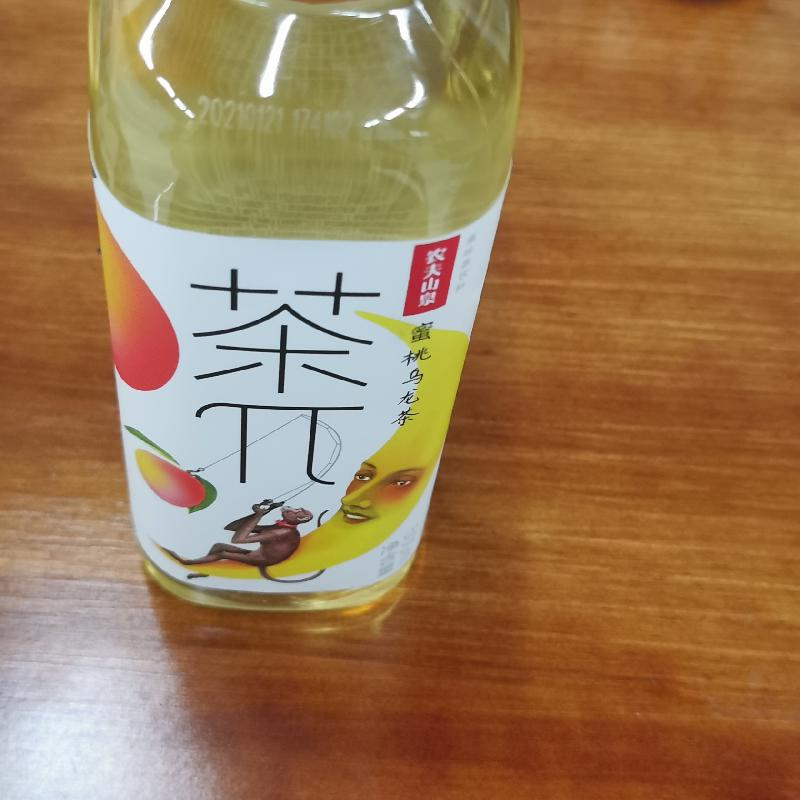bottles: (77, 0, 528, 617)
